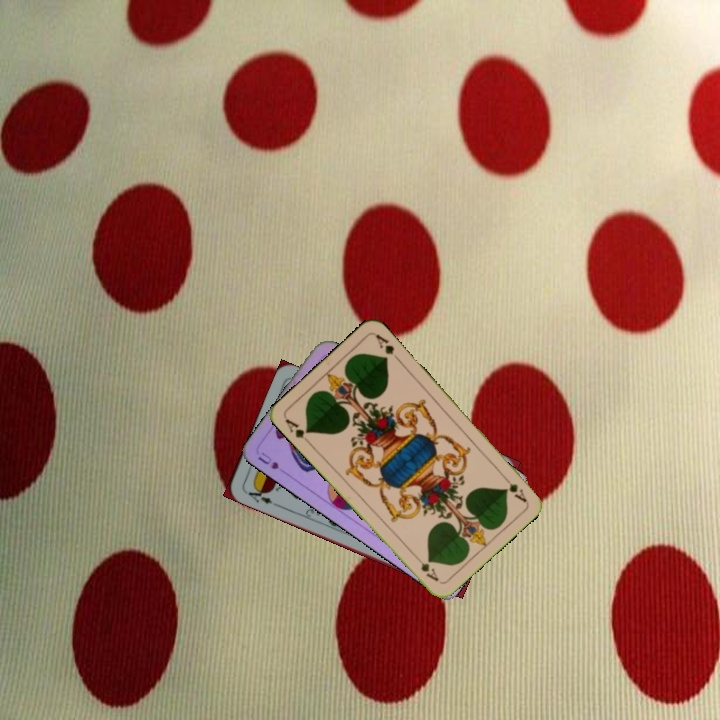EA: (241, 482, 275, 507)
GA: (281, 414, 313, 447), (498, 471, 529, 505)
SU: (254, 448, 282, 472)
